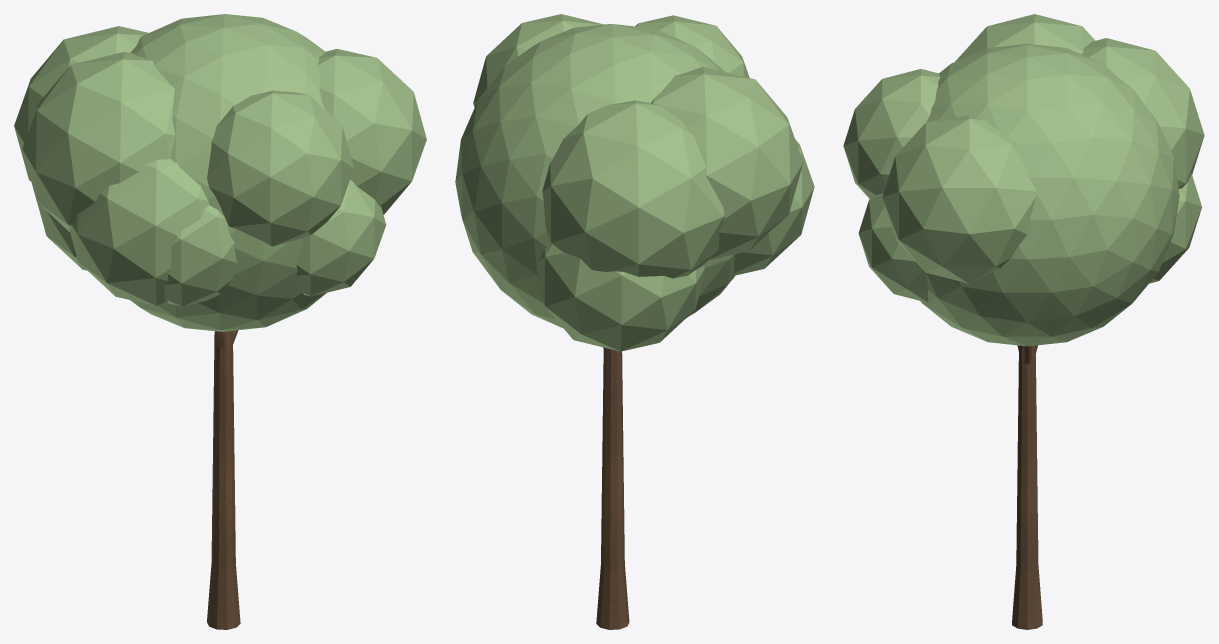
The model's file is tree.glb.
The picture shows the model from 3 angles, left to right: view 1: azimuth 30°, elevation 25°; view 2: azimuth 150°, elevation 25°; view 3: azimuth 270°, elevation 25°; orthographic projection. The views are drawn at different scales.
Parts seen in each view (by area): view 1: tree_leaf, tree_bark; view 2: tree_leaf, tree_bark; view 3: tree_leaf, tree_bark.
Part boxes in pixels (bbox=[...]): tree_leaf: bbox=[14, 14, 426, 331]; tree_bark: bbox=[207, 330, 240, 629]; tree_leaf: bbox=[455, 14, 814, 351]; tree_bark: bbox=[596, 347, 629, 629]; tree_leaf: bbox=[843, 14, 1204, 346]; tree_bark: bbox=[1012, 345, 1042, 629].
Size of the model in its own units: 4.22 by 6.97 by 4.03.
2 materials, 1 textured.
